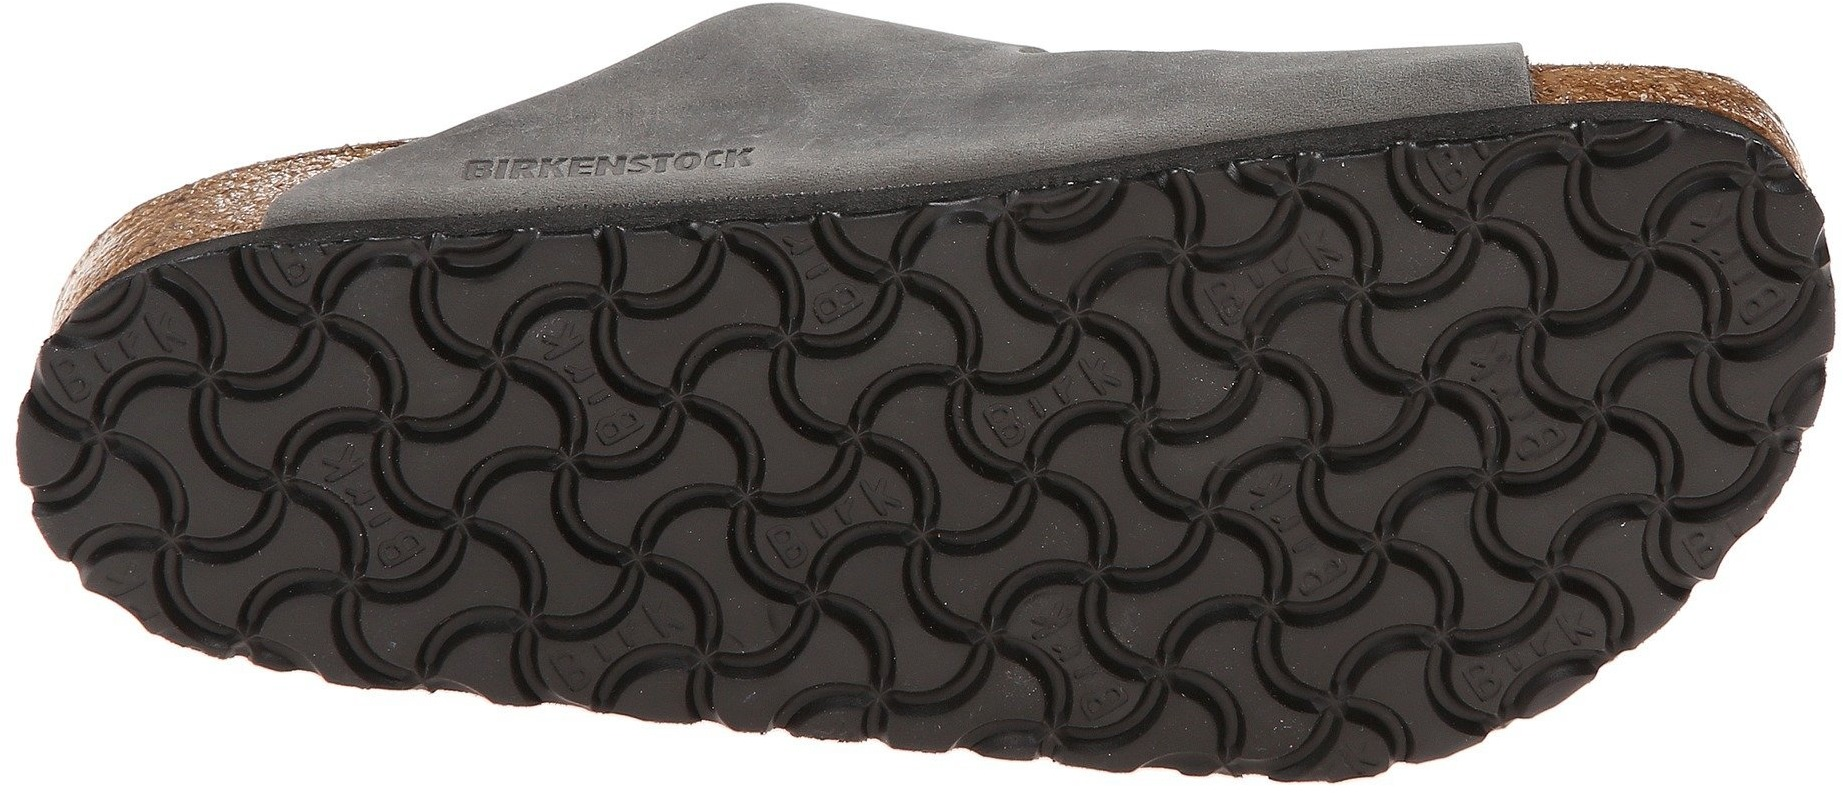bowtie: (1041, 211, 1515, 679), (602, 258, 1039, 698), (195, 268, 584, 663), (1448, 214, 1748, 525), (1128, 202, 1429, 505), (591, 231, 856, 490), (308, 235, 581, 479), (926, 498, 1202, 730), (867, 246, 1117, 490), (1215, 515, 1445, 751), (91, 309, 302, 536), (705, 498, 914, 688), (1579, 327, 1777, 516), (507, 500, 693, 688), (311, 489, 492, 671), (1457, 533, 1623, 684)
text: (1041, 211, 1515, 679), (602, 258, 1039, 698), (195, 268, 584, 663)
